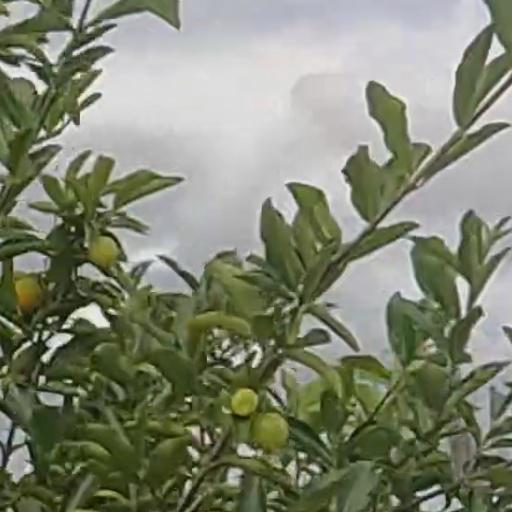acerola_verde: (253, 412, 286, 449), (89, 235, 115, 266), (234, 390, 256, 414)
acerola_vermelha: (16, 278, 40, 310)
